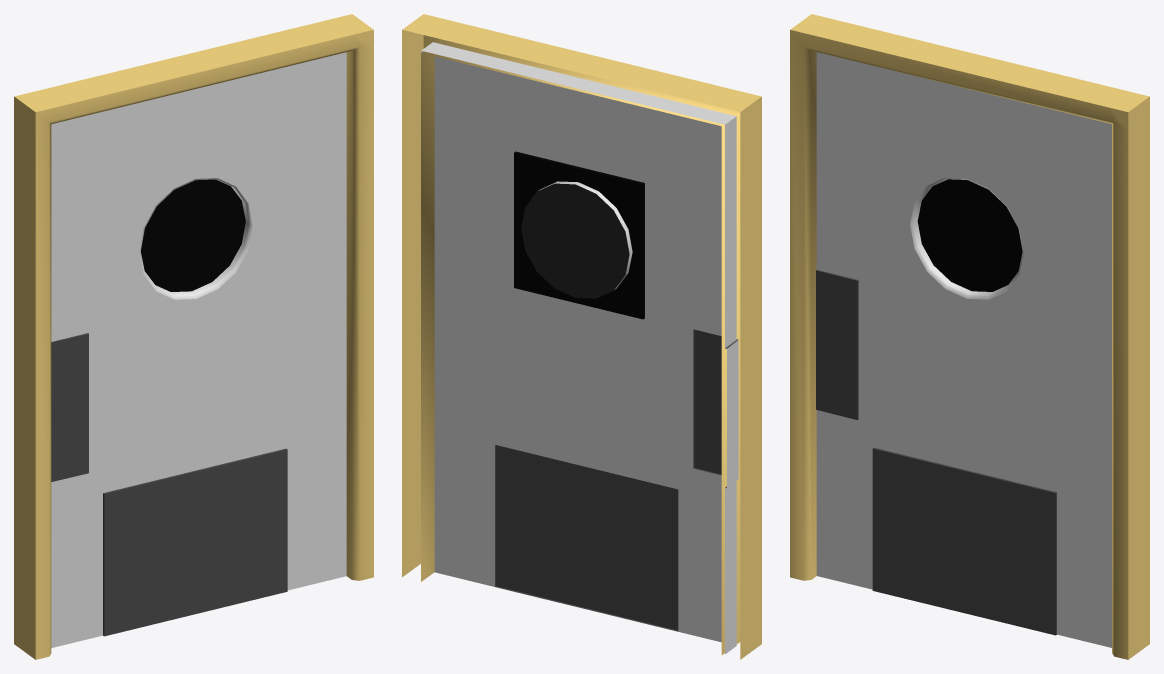
File: SideDoor.fbx
The picture shows the model from 3 angles, left to right: view 1: azimuth 30°, elevation 25°; view 2: azimuth 150°, elevation 25°; view 3: azimuth 330°, elevation 25°; orthographic projection.
Parts seen in each view (by area): view 1: Sidedoor; view 2: Sidedoor; view 3: Sidedoor.
Boxes of the visible parts, box(x1,y1,x2,y2) form: Sidedoor: box(14, 14, 373, 659); Sidedoor: box(402, 14, 761, 659); Sidedoor: box(790, 14, 1149, 659).
Size of the model in its own units: 167 by 258 by 18.42.
